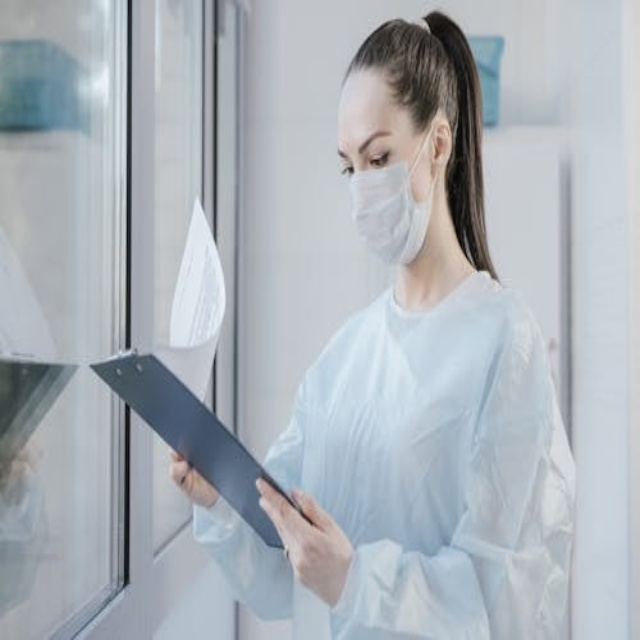Mascara: (350, 123, 438, 266)
Sin_gafas: (332, 119, 406, 173)
